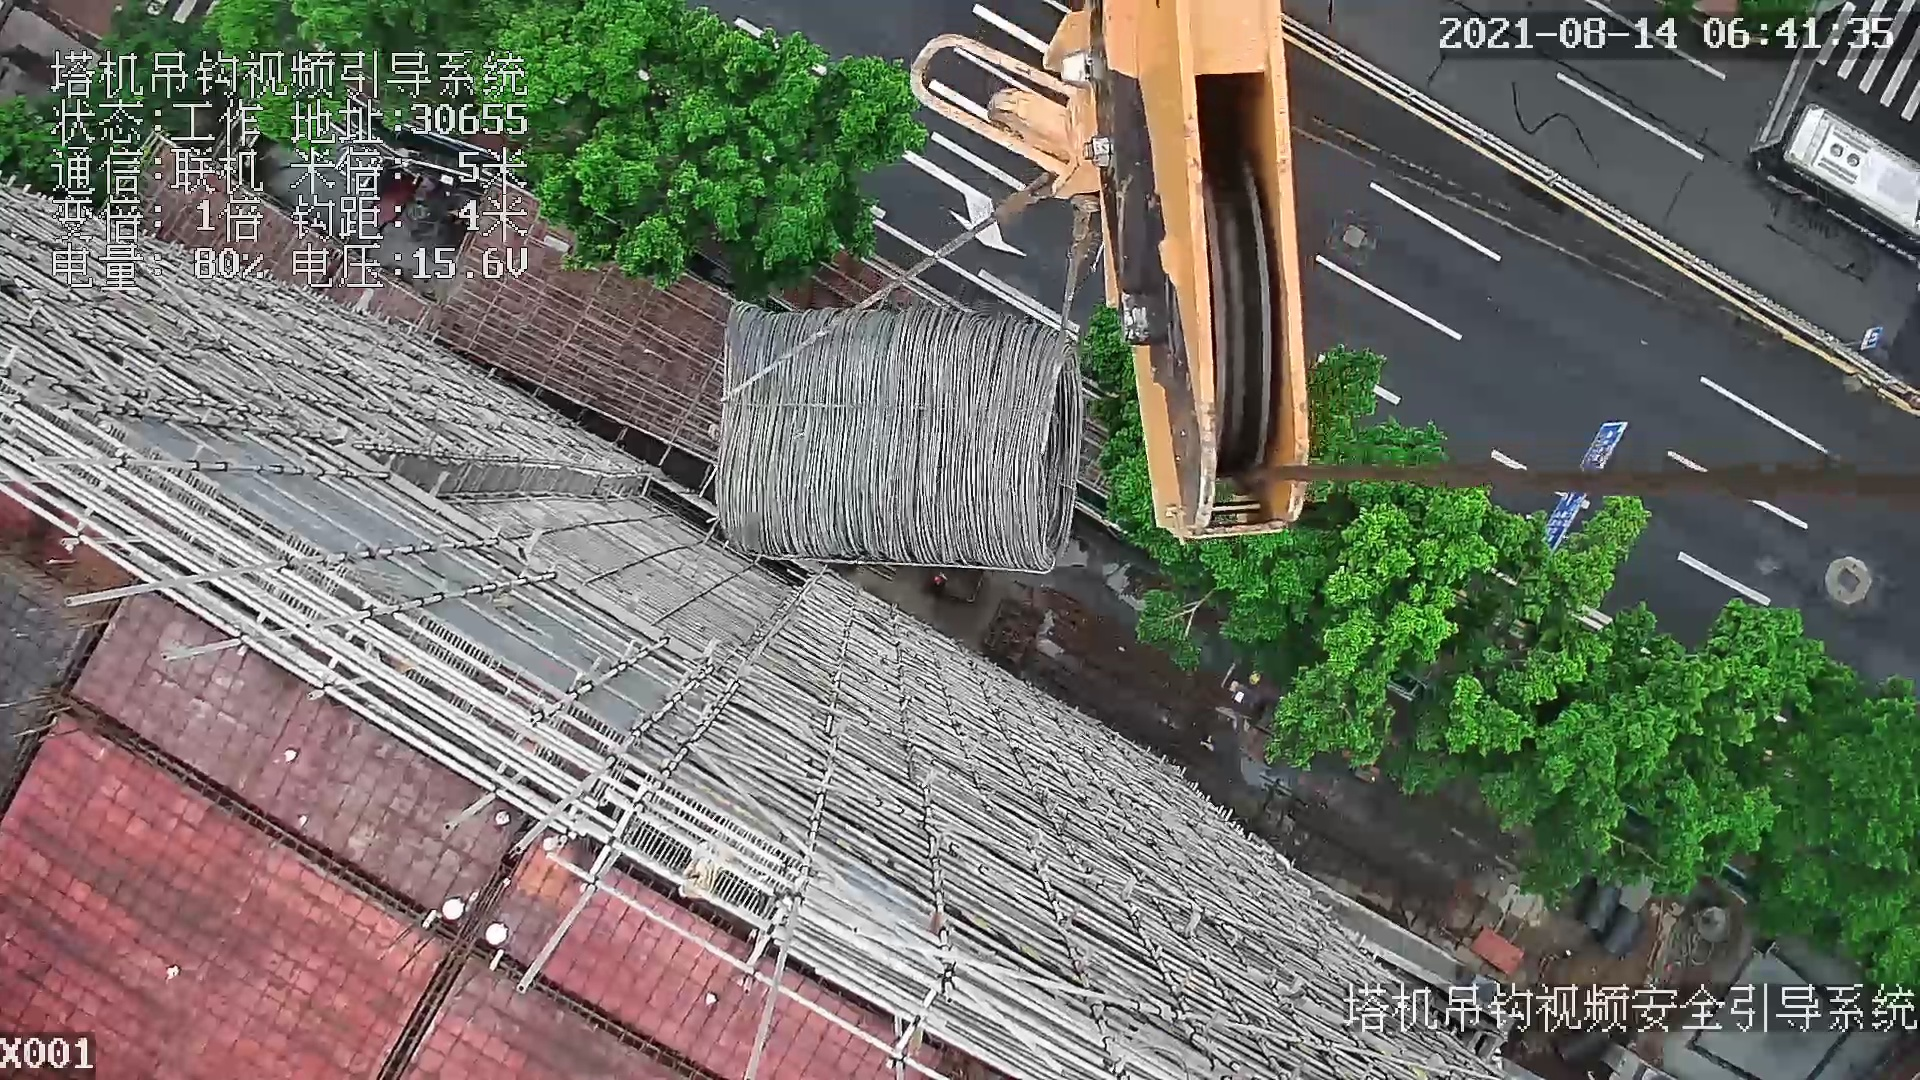hook: (913, 1, 1313, 537)
